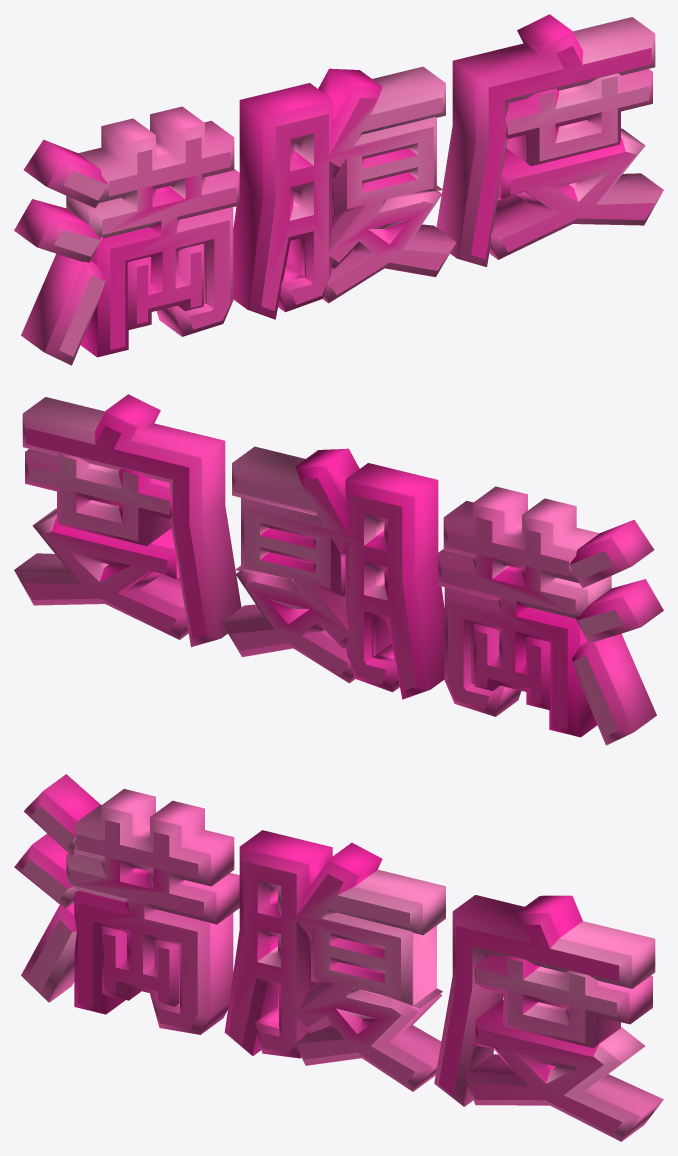
File: fullStomach.obj
3 renders of one model, top to bottom at view 1: azimuth 30°, elevation 25°; view 2: azimuth 150°, elevation 25°; view 3: azimuth 330°, elevation 25°, orthographic.
Parts seen in each view (by area): view 1: テキスト; view 2: テキスト; view 3: テキスト.
Part boxes in pixels (x1,y1,x2,y2): テキスト: (14, 14, 663, 365); テキスト: (14, 394, 663, 745); テキスト: (14, 774, 663, 1141).
Size of the model in its own units: 6.53 by 2.15 by 0.5844.
Materials: 1 (1 with a texture image).
